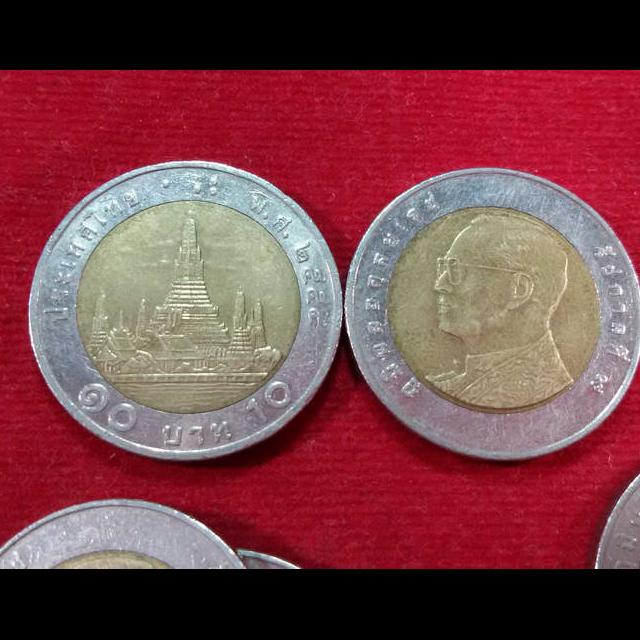10-baht: (20, 153, 343, 476), (338, 153, 640, 474)
